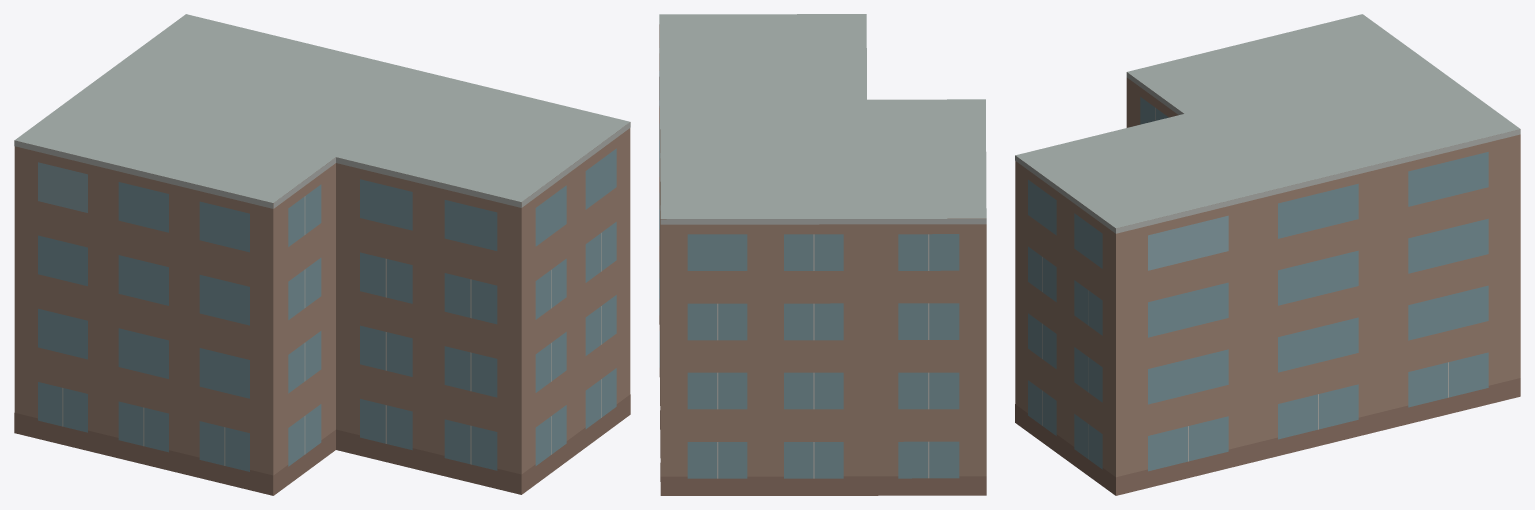
The model's file is residential-11c08edb-ec59-4201-a384-fedaabc09299.glb.
3 views of the same model, side by side, from view 1: azimuth 30°, elevation 25°; view 2: azimuth 150°, elevation 25°; view 3: azimuth 270°, elevation 25° (orthographic). The views are drawn at different scales.
Parts seen in each view (by area): view 1: residential-11c08edb-ec59-4201-a384-fedaabc09299.tmp; view 2: residential-11c08edb-ec59-4201-a384-fedaabc09299.tmp; view 3: residential-11c08edb-ec59-4201-a384-fedaabc09299.tmp.
Boxes of the visible parts, x1=… form: residential-11c08edb-ec59-4201-a384-fedaabc09299.tmp: x1=14, y1=14, x2=630, y2=495; residential-11c08edb-ec59-4201-a384-fedaabc09299.tmp: x1=659, y1=14, x2=986, y2=495; residential-11c08edb-ec59-4201-a384-fedaabc09299.tmp: x1=1015, y1=14, x2=1520, y2=495.
Bounding box in the file's own units: 20.98 × 12.2 × 20.91.
